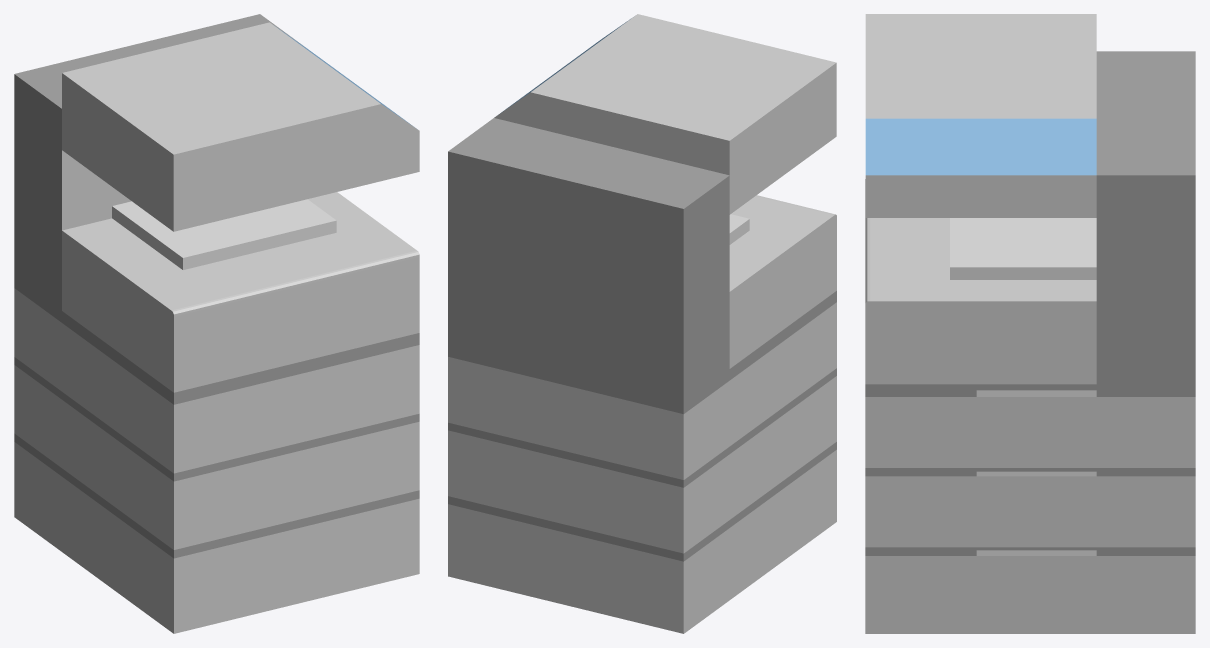
File: Photocopier.fbx
3 renders of one model, left to right at view 1: azimuth 30°, elevation 25°; view 2: azimuth 150°, elevation 25°; view 3: azimuth 270°, elevation 25°, orthographic. The views are drawn at different scales.
Visible parts, largest first — view 1: Cube, Cube.003; view 2: Cube; view 3: Cube, Cube.003.
Boxes of the visible parts, box(x1,y1,x2,y2) form: Cube: box(14, 14, 419, 633); Cube.003: box(112, 199, 336, 269); Cube: box(448, 14, 836, 633); Cube: box(865, 14, 1195, 633); Cube.003: box(950, 218, 1096, 279).
Size of the model in its own units: 200 by 372 by 225.
